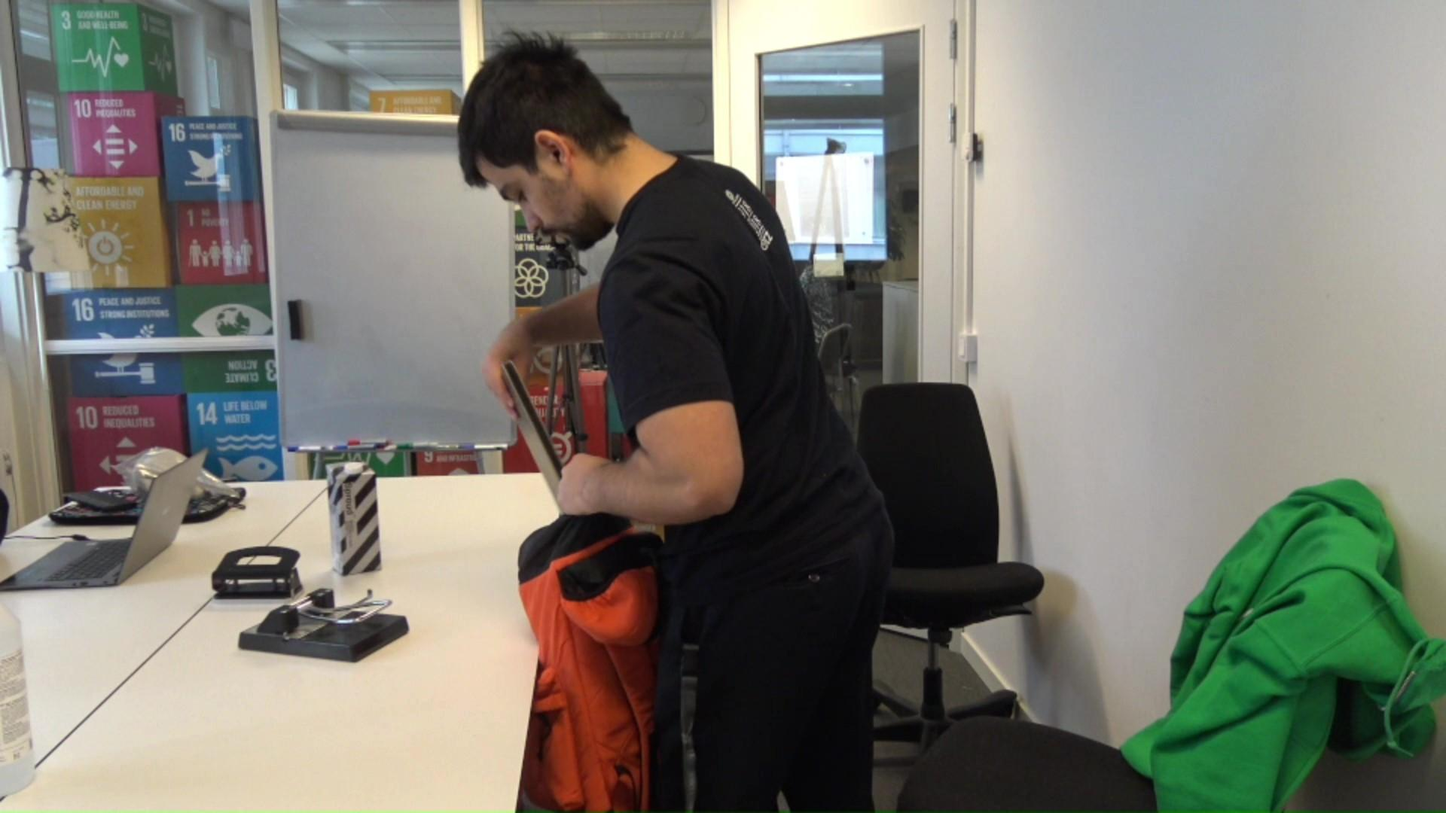shoplifting: (458, 38, 890, 813)
